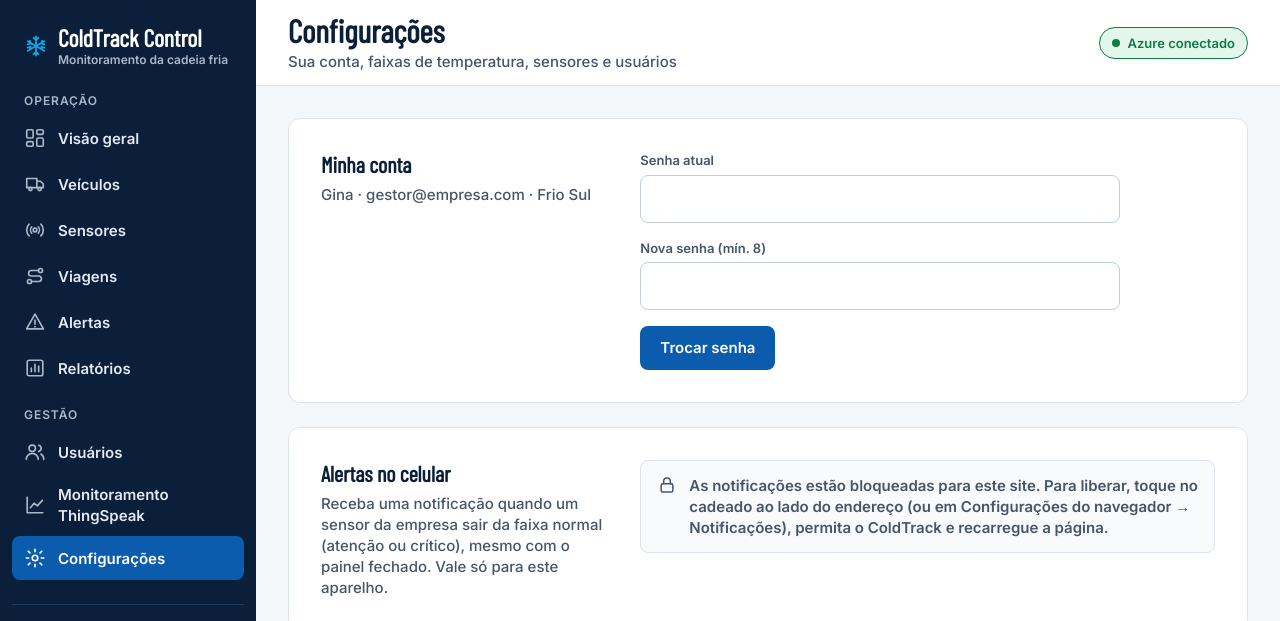
Scenario: Configurações › troca de senha com sucesso: guarda o token novo e confirma
Type "antiga123" into the password field labelled "Senha atual". click: (880, 199)
box: 640,175 -> 1120,223
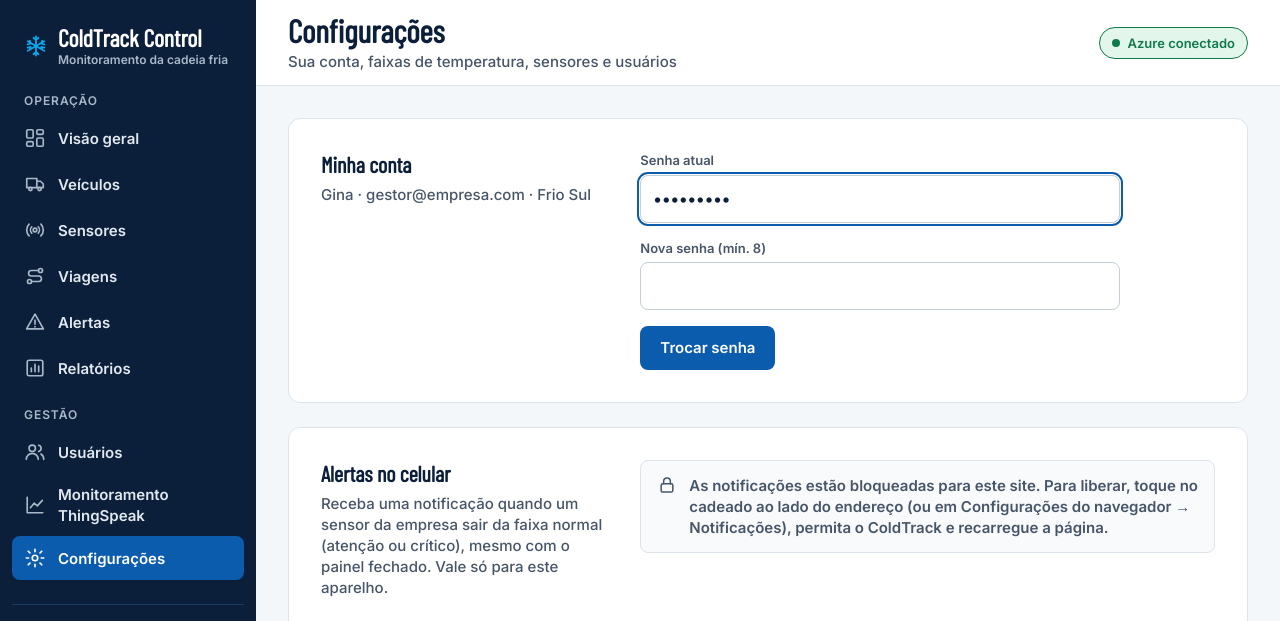
Type "nova12345" into the password field labelled "Nova senha (mín. 8)". click: (880, 286)
box: 640,262 -> 1120,310
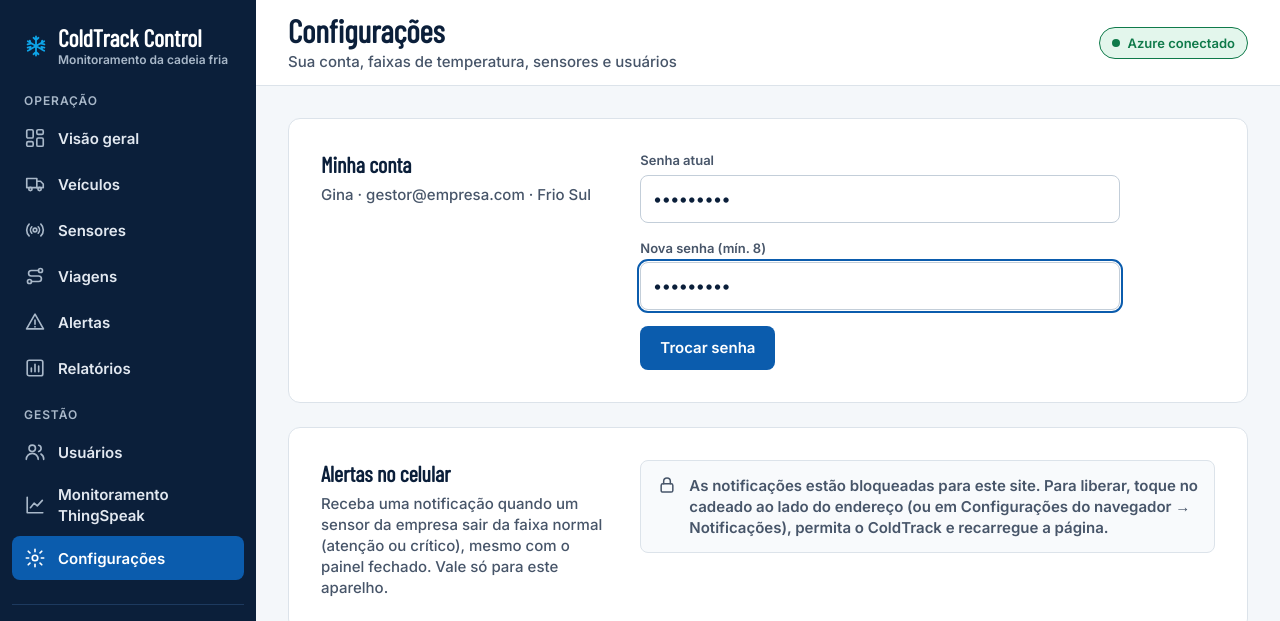
Click the button "Trocar senha". click: click(708, 348)
box: 640,326 -> 775,370
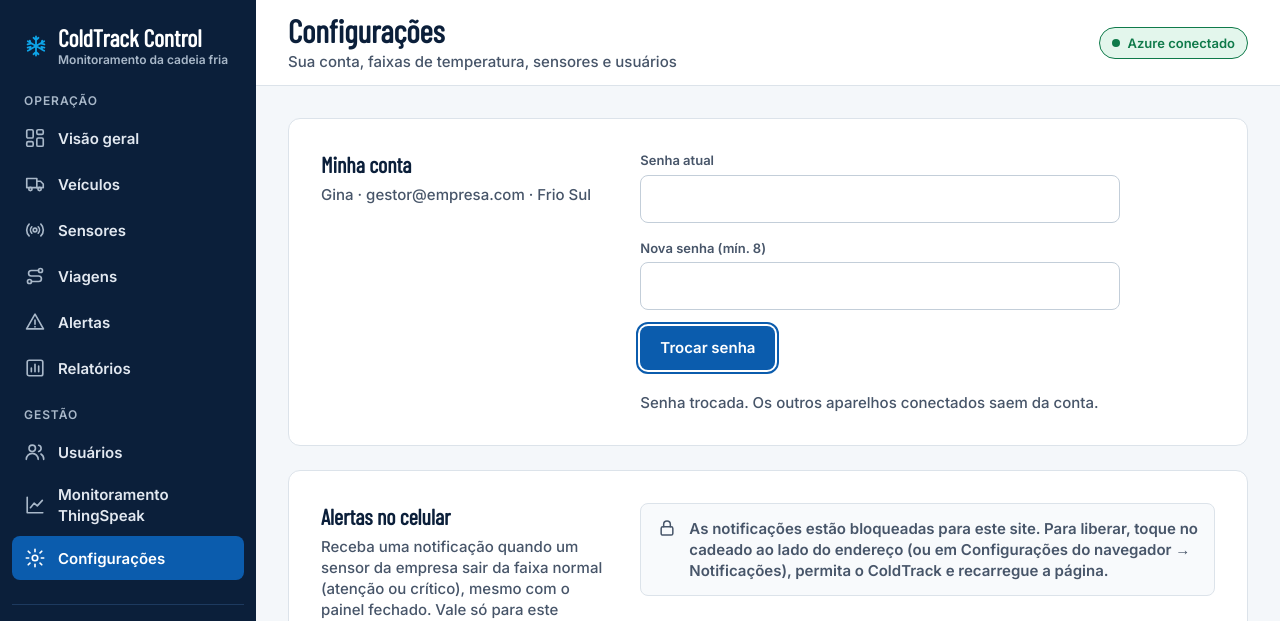
Expected: the text "Senha trocada. Os outros aparelhos conectados saem da conta." is shown, 640,393 -> 1098,412
